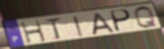A: (92, 12, 116, 37)
H: (19, 19, 48, 45)
I: (72, 15, 85, 38)
P: (111, 9, 133, 33)
Q: (133, 6, 159, 30)
T: (43, 17, 63, 41)
